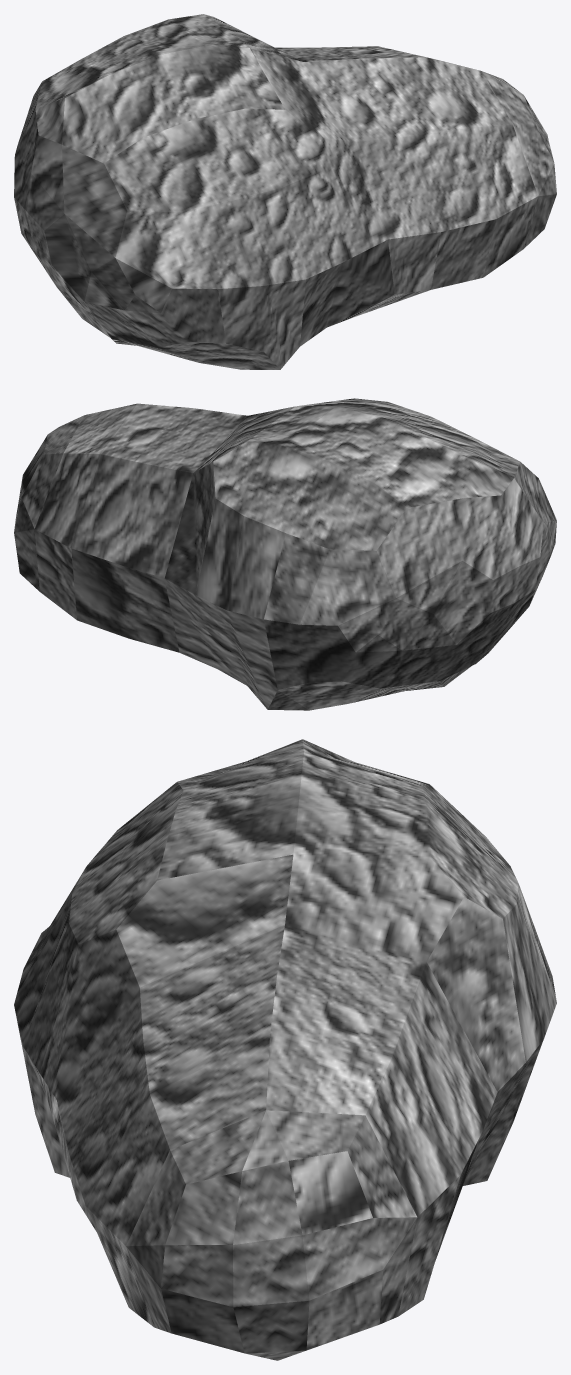
The model's file is meteorite.obj.
3 views of the same model, one above another, from view 1: azimuth 30°, elevation 25°; view 2: azimuth 150°, elevation 25°; view 3: azimuth 270°, elevation 25° (orthographic). The views are drawn at different scales.
Visible parts, largest first — view 1: Cube; view 2: Cube; view 3: Cube.
Part boxes in pixels (x1,y1,x2,y2): Cube: (14,14,556,369); Cube: (14,398,556,710); Cube: (14,739,556,1360).
Size of the model in its own units: 4.37 by 2.41 by 2.84.
